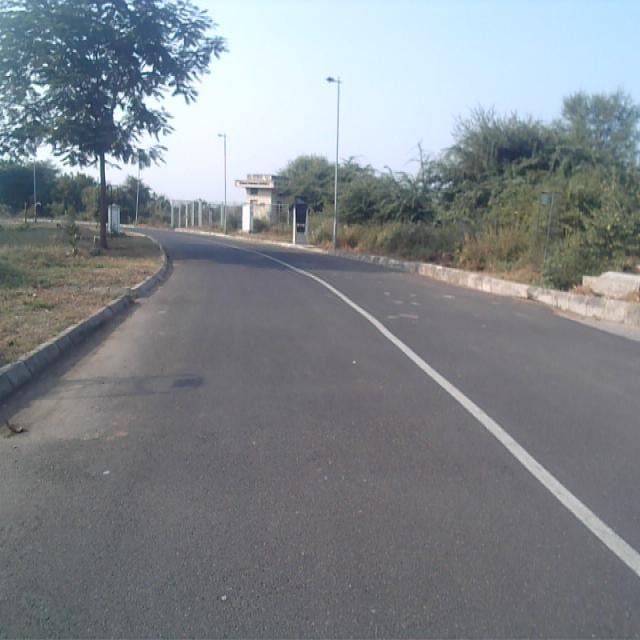lane: (0, 230, 640, 640)
